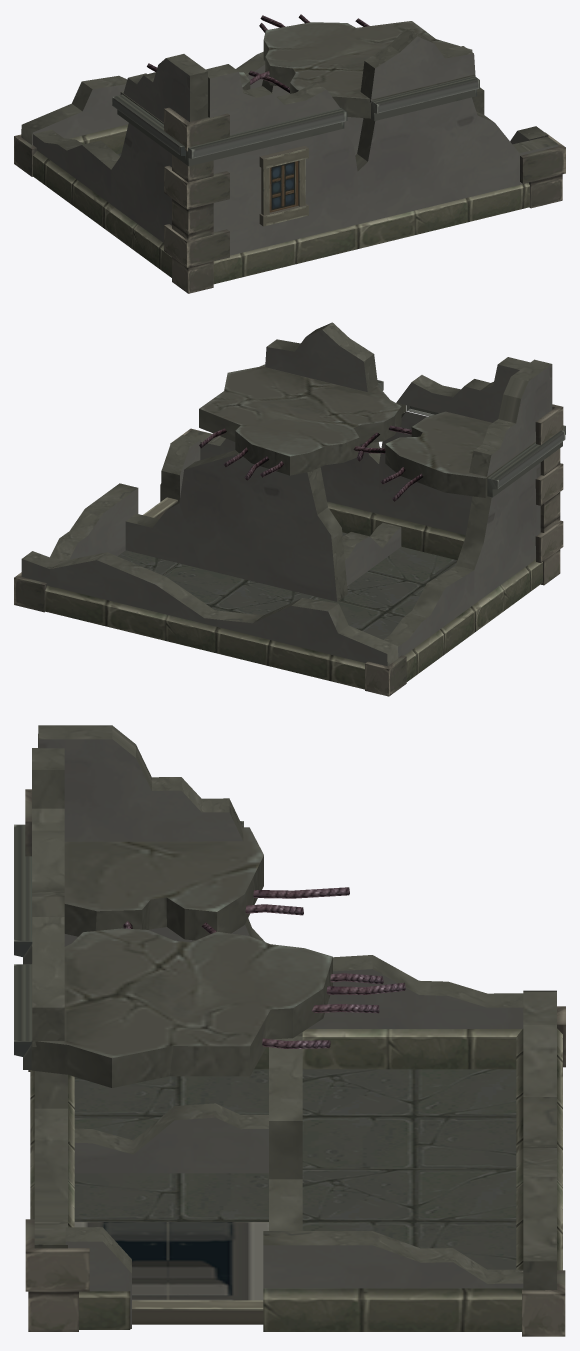
Rendered from break_house_24.fbx.
3 renders of one model, top to bottom at view 1: azimuth 30°, elevation 25°; view 2: azimuth 150°, elevation 25°; view 3: azimuth 270°, elevation 25°, orthographic. The views are drawn at different scales.
Visible parts, largest first — view 1: break_house_024; view 2: break_house_024; view 3: break_house_024.
Part boxes in pixels (box(x1,y1,x2,y2)): break_house_024: box(14, 14, 565, 293); break_house_024: box(14, 322, 565, 696); break_house_024: box(14, 725, 565, 1336).
Size of the model in its own units: 989 by 523 by 790.
1 material, 1 textured.
